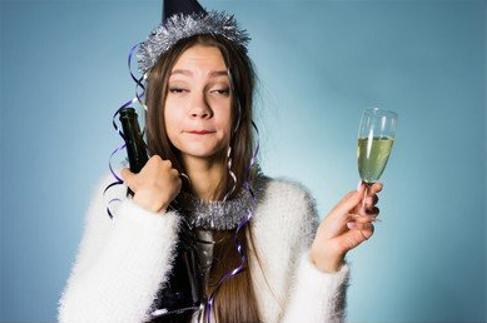Drunk: (165, 49, 236, 155)
